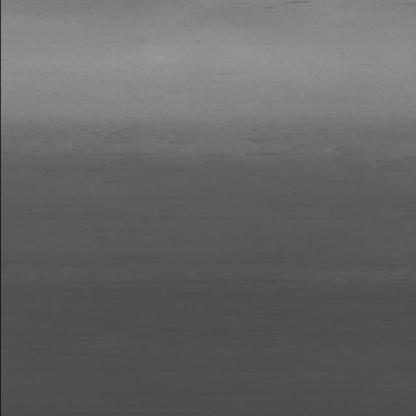silk_spot: (65, 114, 380, 177)
